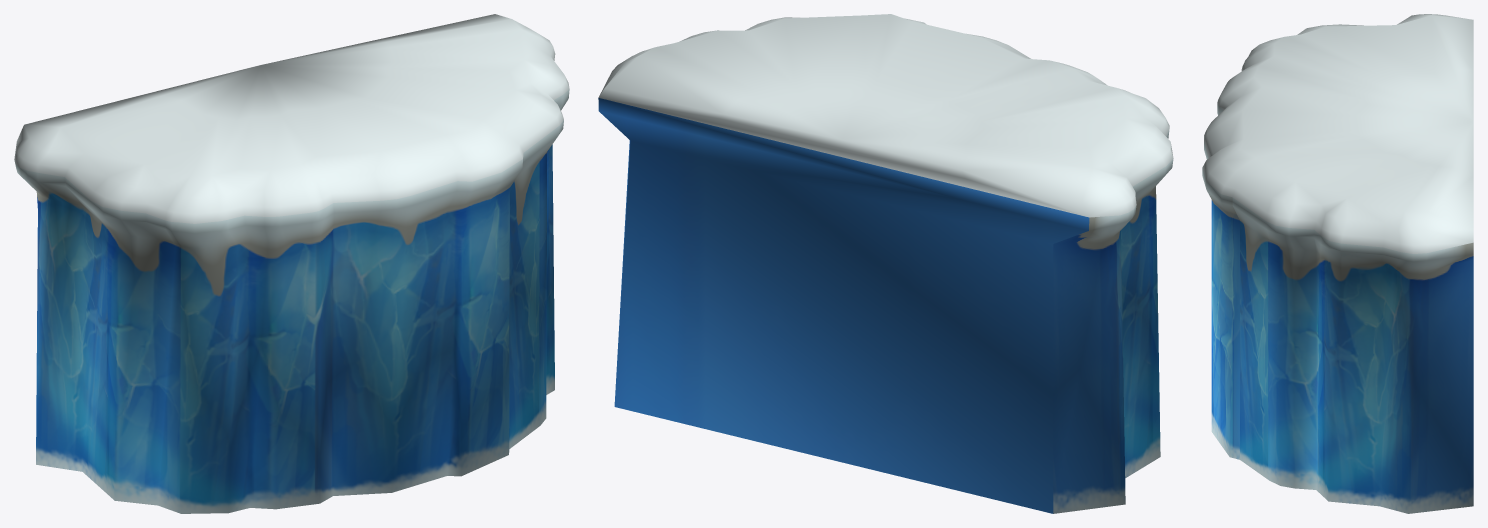
File: Ice_cliff_01.fbx
3 views of the same model, side by side, from view 1: azimuth 30°, elevation 25°; view 2: azimuth 150°, elevation 25°; view 3: azimuth 270°, elevation 25° (orthographic). The views are drawn at different scales.
Visible parts, largest first — view 1: Ice_cliff_01; view 2: Ice_cliff_01; view 3: Ice_cliff_01.
Part boxes in pixels (<box>): Ice_cliff_01: <box>14,14,569,513</box>; Ice_cliff_01: <box>598,14,1173,513</box>; Ice_cliff_01: <box>1202,14,1473,513</box>.
Bounding box in the file's own units: 571 × 342 × 286.
